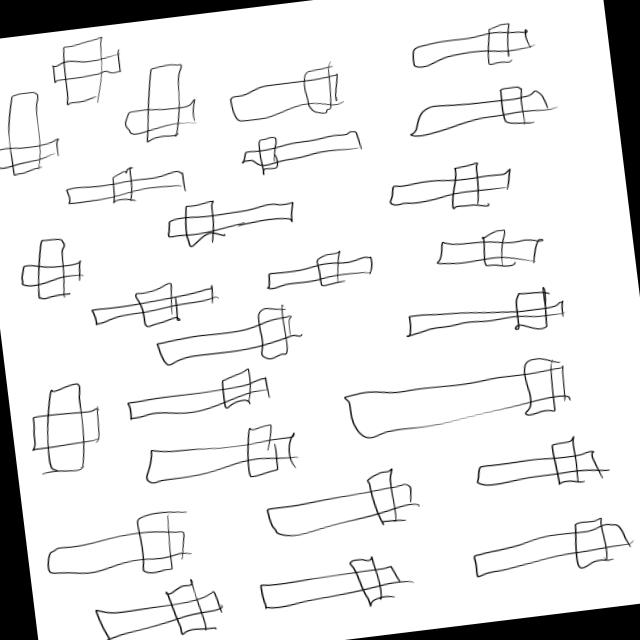Slider: (324, 350, 588, 444), (444, 417, 637, 508), (121, 412, 312, 502), (27, 504, 212, 594), (454, 505, 640, 593), (255, 460, 426, 547), (114, 356, 290, 432), (252, 544, 414, 626), (388, 281, 576, 348), (140, 304, 306, 376), (18, 374, 116, 492), (391, 12, 545, 81), (402, 75, 558, 143), (221, 56, 361, 128), (418, 210, 558, 281), (86, 577, 239, 640), (154, 188, 308, 250), (224, 120, 378, 180), (387, 154, 523, 218), (78, 277, 220, 338), (116, 58, 206, 152), (59, 154, 194, 214), (39, 23, 128, 114), (258, 242, 384, 302), (4, 225, 90, 312), (0, 80, 62, 186)
